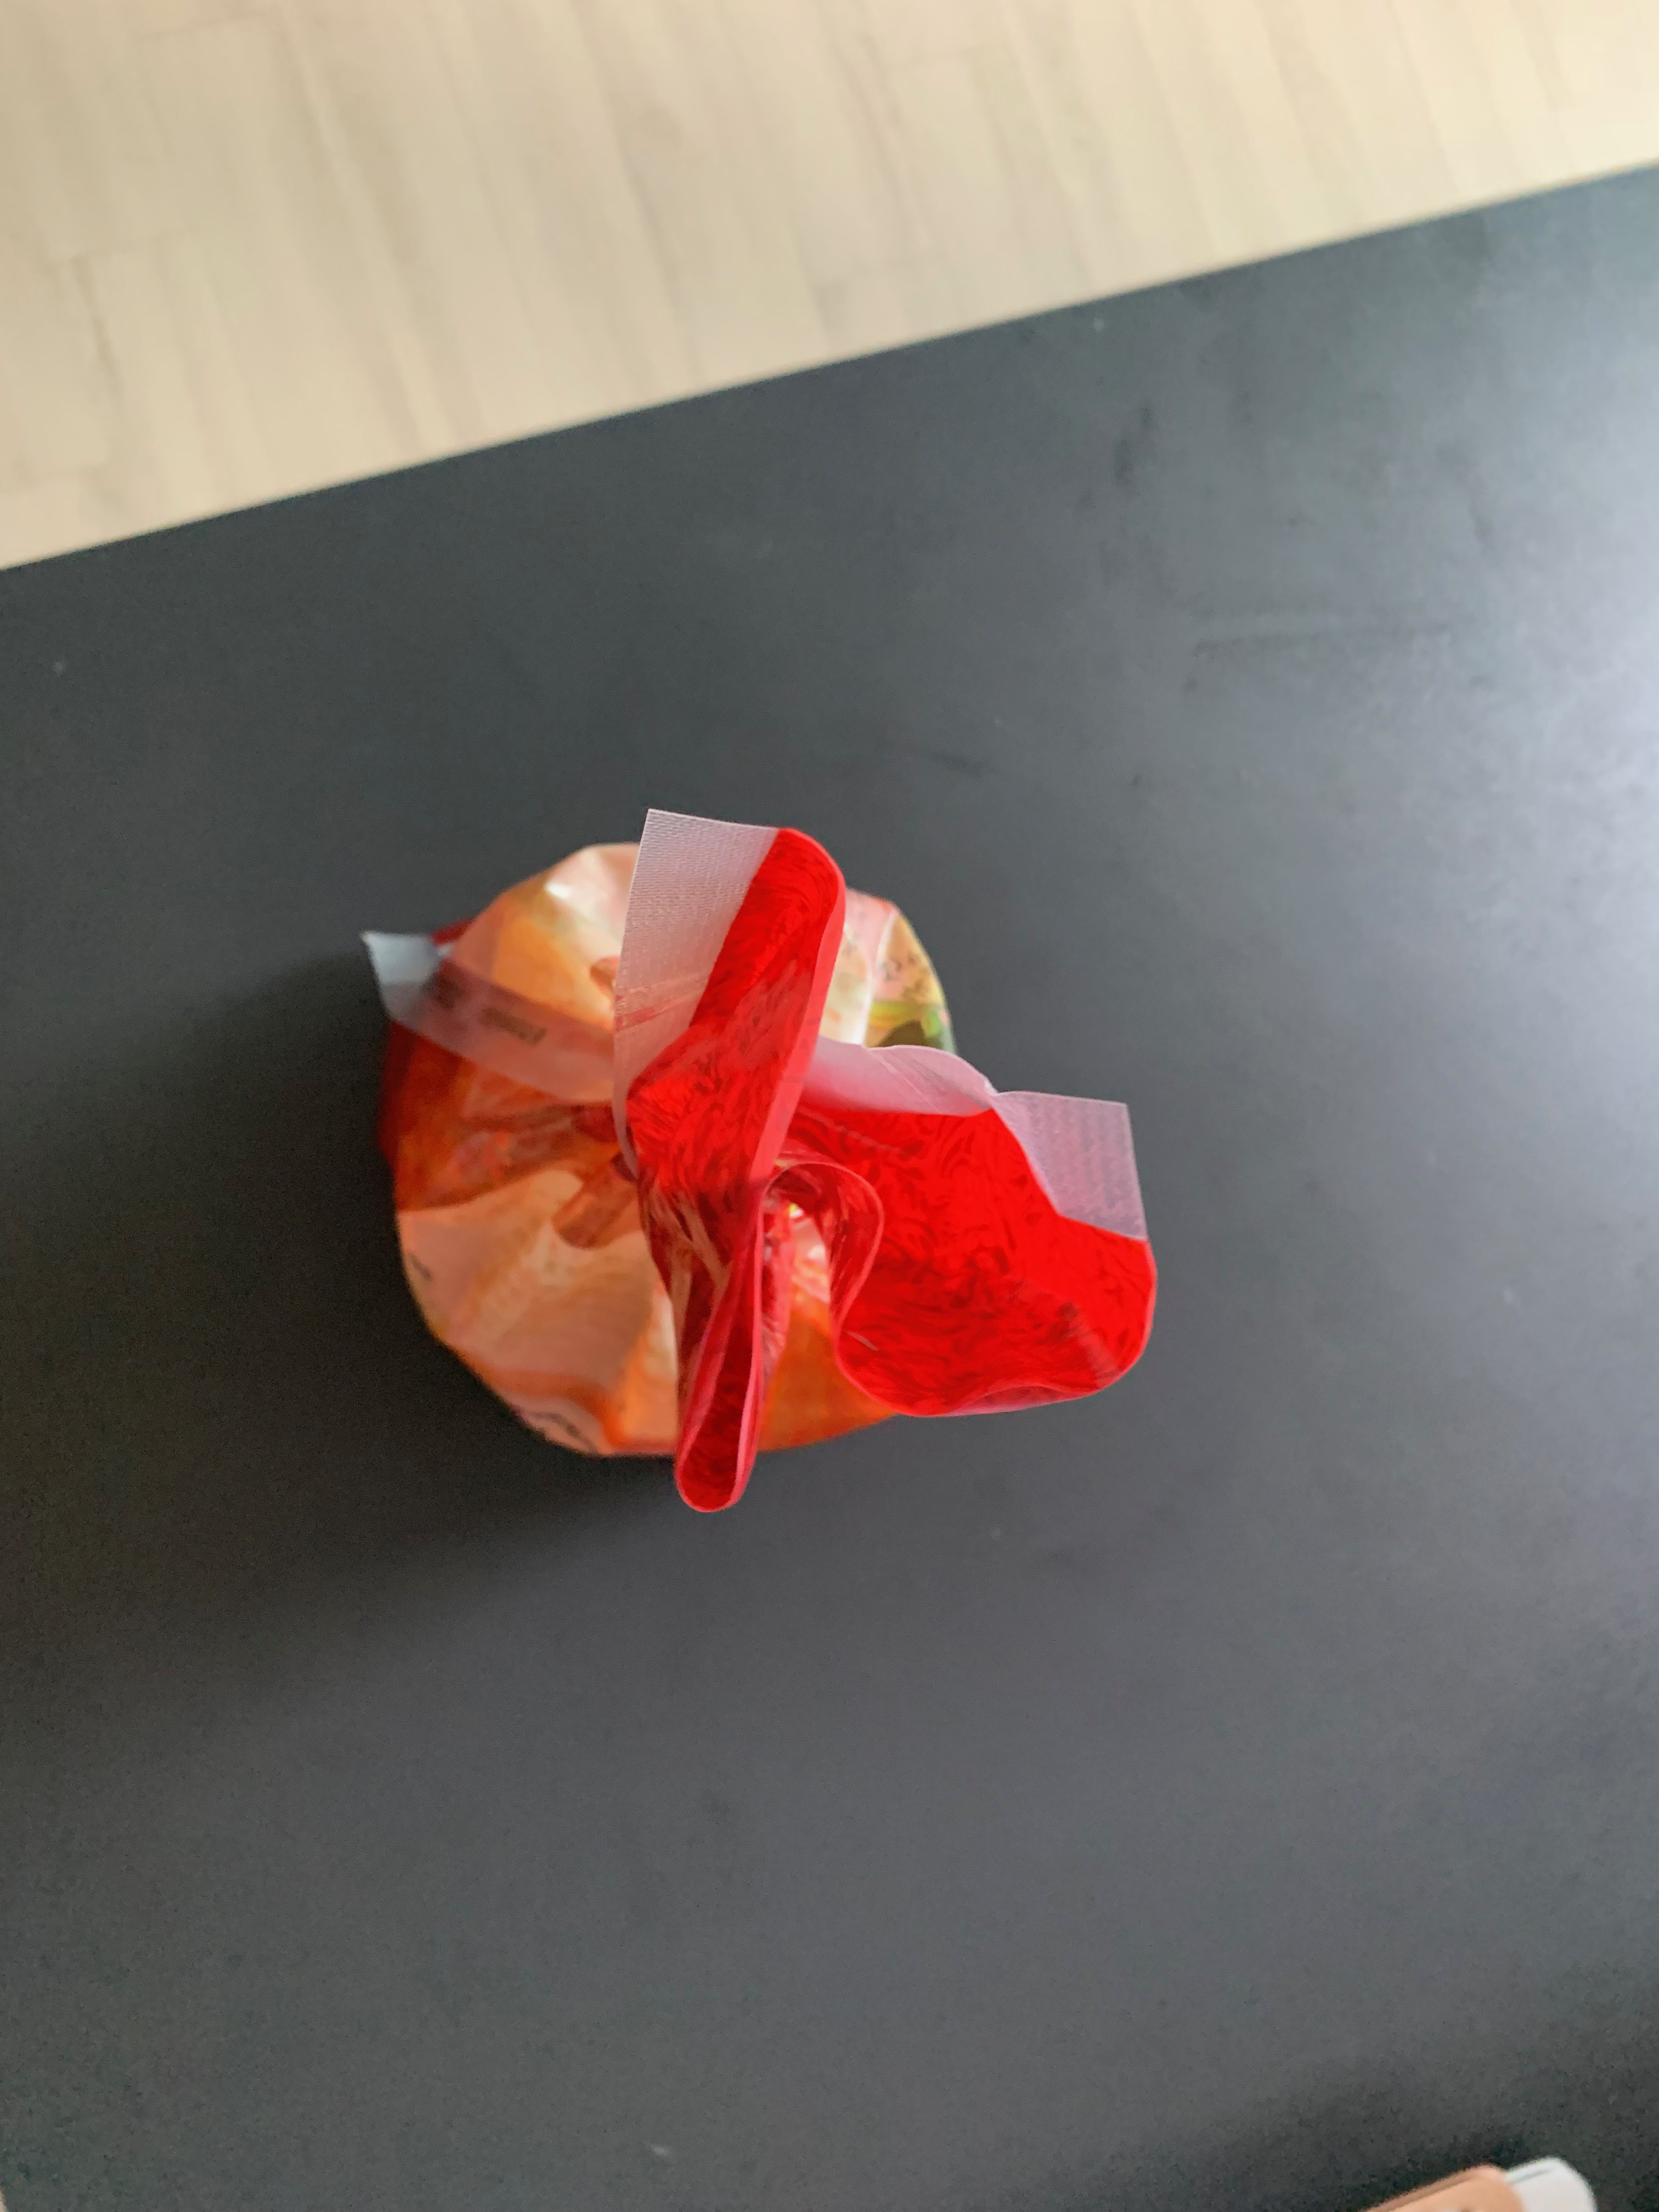kimchi: (389, 840, 1154, 1517)
